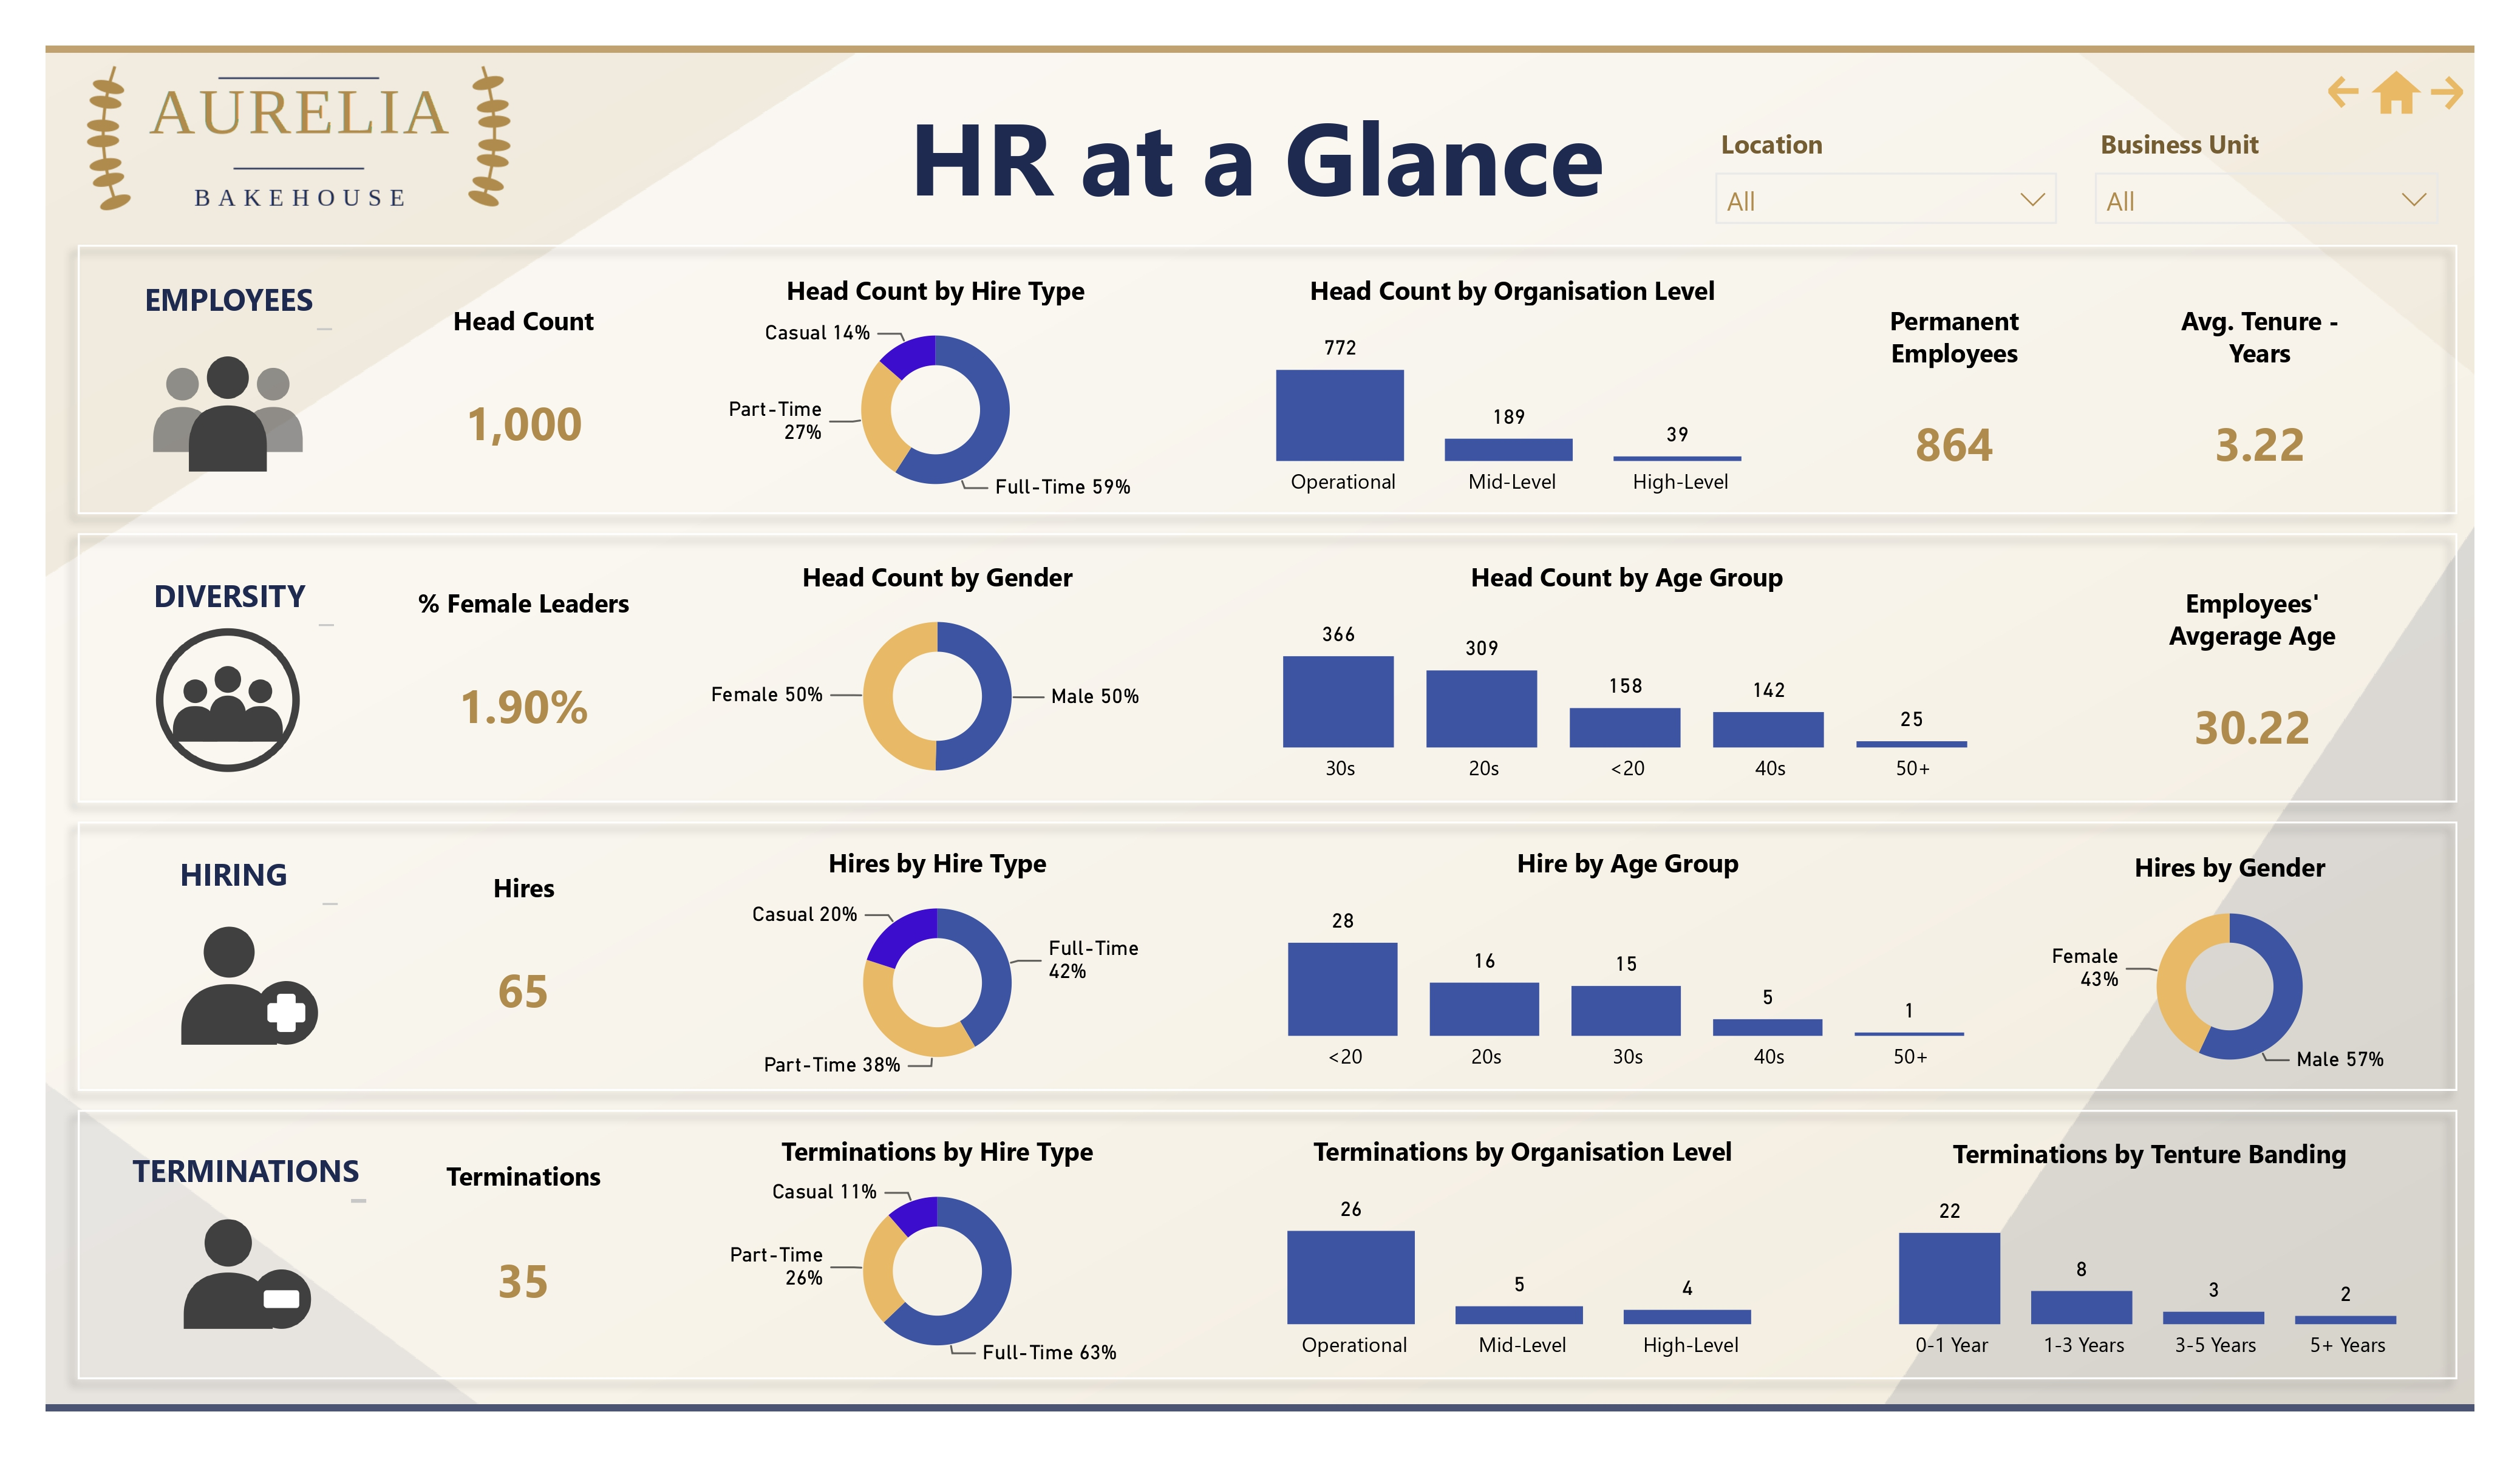

The dashboard page shown, as its layout file describes it:
{"tool":"powerbi","page":{"name":"Glance","canvas":[1280,720],"ordinal":1},"visuals":[{"type":"shape","box":[7.7,248,1272.3,160.1],"z":0},{"type":"shape","box":[8,96,1272,160],"z":1000},{"type":"shape","box":[8,400,1272,160],"z":2000},{"type":"shape","box":[8,552,1272,160],"z":3000},{"type":"slicer","fields":{"Values":["BusinessUnits.BusinessUnit"]},"box":[1070.2,38.1,200.6,63.7],"z":4000},{"type":"cardVisual","title":"Head Count","fields":{"Data":["CountNonNull(EmployeeDetails.EmployeeID)"]},"box":[184,136,136,104],"z":4000,"group":"g2"},{"type":"slicer","fields":{"Values":["BusinessUnits.Location"]},"box":[870.5,38.1,199.7,63.7],"z":5000},{"type":"donutChart","title":"Head Count by Hire Type","fields":{"Y":["CountNonNull(EmployeeDetails.EmployeeID)"],"Category":["EmployeeDetails.EmploymentType"]},"box":[333.4,120,272,127],"z":5000,"group":"g2"},{"type":"textbox","title":"HR at a Glance","box":[450.2,21.3,379.5,72.7],"z":6000},{"type":"clusteredColumnChart","title":"Head Count by Organisation Level","fields":{"Category":["EmploymentDetails.OrgLevel"],"Y":["CountNonNull(EmployeeDetails.EmployeeID)"]},"box":[608.4,120,330,128],"z":6000,"group":"g2"},{"type":"group","id":"g1","title":"Group 1","box":[33.6,271.1,1190.8,128.4],"z":7000},{"type":"donutChart","title":"Head Count by Gender","fields":{"Y":["CountNonNull(EmployeeDetails.EmployeeID)"],"Category":["EmployeeDetails.Gender"]},"box":[333.4,271.3,272,127],"z":7000,"group":"g1"},{"type":"group","id":"g2","title":"Group 2","box":[32,120,1192.1,128],"z":8000},{"type":"clusteredColumnChart","title":"Head Count by Age Group","fields":{"Category":["EmployeeDetails.AgeGroup"],"Y":["CountNonNull(EmployeeDetails.EmployeeID)"]},"box":[617,271.1,433.1,128.4],"z":8000,"group":"g1"},{"type":"cardVisual","title":"Employees'' Avgerage Age","fields":{"Data":["Avg(EmployeeDetails.Age)"]},"box":[1100.8,285.5,123.6,104],"z":9000,"group":"g1"},{"type":"group","id":"g3","title":"Group 3","box":[38.6,422.4,1215.5,129.5],"z":9000},{"type":"cardVisual","title":"Permanent Employees","fields":{"Data":["CountNonNull(EmployeeDetails.EmployeeID)"]},"box":[943.7,136,124,104],"z":10000,"group":"g2"},{"type":"group","id":"g4","title":"Group 4","box":[36.7,573.9,1237.1,129.3],"z":10000},{"type":"image","box":[0,2.9,263.3,93.6],"z":11000},{"type":"cardVisual","title":"% Female Leaders","fields":{"Data":[" Measures.FemaleLeadersPercentage"]},"box":[184,285.6,136,104],"z":11000,"group":"g1"},{"type":"cardVisual","title":"Hires","fields":{"Data":["CountNonNull(EmployeeDetails.EmployeeID)"]},"box":[184,435.2,136,104],"z":12000,"group":"g3"},{"type":"actionButton","box":[1198.8,8.9,24.8,30.1],"z":13000},{"type":"donutChart","title":"Hires by Hire Type","fields":{"Y":["CountNonNull(EmployeeDetails.EmployeeID)"],"Category":["EmployeeDetails.EmploymentType"]},"box":[333.4,422.6,272,127],"z":13000,"group":"g3"},{"type":"actionButton","box":[1252,9.8,25.7,30.1],"z":14000},{"type":"donutChart","title":"Hires by Gender","fields":{"Y":["CountNonNull(EmployeeDetails.EmployeeID)"],"Category":["EmployeeDetails.Gender"]},"box":[1046.2,424.4,207.9,127.4],"z":14000,"group":"g3"},{"type":"image","box":[1210.3,0,56.7,49.7],"z":15000},{"type":"clusteredColumnChart","title":"Hire by Age Group","fields":{"Category":["EmployeeDetails.AgeGroup"],"Y":["CountNonNull(EmployeeDetails.EmployeeID)"]},"box":[619.2,422.4,428.2,128.6],"z":15000,"group":"g3"},{"type":"cardVisual","title":"Terminations","fields":{"Data":["CountNonNull(EmployeeDetails.EmployeeID)"]},"box":[184,587.3,136,104.4],"z":17000,"group":"g4"},{"type":"donutChart","title":"Terminations by Hire Type","fields":{"Y":["CountNonNull(EmployeeDetails.EmployeeID)"],"Category":["EmployeeDetails.EmploymentType"]},"box":[333.4,573.9,272.1,127.4],"z":18000,"group":"g4"},{"type":"clusteredColumnChart","title":"Terminations by Organisation Level","fields":{"Category":["EmploymentDetails.OrgLevel"],"Y":["CountNonNull(EmployeeDetails.EmployeeID)"]},"box":[613.5,574.1,329.3,128.6],"z":19000,"group":"g4"},{"type":"clusteredColumnChart","title":"Terminations by Tenture Banding","fields":{"Y":["CountNonNull(EmployeeDetails.EmployeeID)"],"Category":["EmployeeDetails.TentureYearsGroup"]},"box":[943.8,574.9,330,128.4],"z":20000,"group":"g4"},{"type":"image","box":[32,144,128,96],"z":25000,"group":"g2"},{"type":"image","box":[33.6,301.4,122.9,87.4],"z":26000,"group":"g1"},{"type":"image","box":[47.3,446.6,112.9,93.6],"z":27000,"group":"g3"},{"type":"image","box":[50.9,601,105.6,88.3],"z":28000,"group":"g4"},{"type":"cardVisual","title":"Avg. Tenure - Years","fields":{"Data":["Avg(EmployeeDetails.YearsOfService)"]},"box":[1110.2,136,113.8,104.2],"z":30000,"group":"g2"},{"type":"textbox","title":"TERMINATIONS","box":[36.7,581.7,137,32.8],"z":31500,"group":"g4"},{"type":"textbox","title":"HIRING","box":[38.6,426.3,119.6,31.8],"z":32000,"group":"g3"},{"type":"textbox","title":"DIVERSITY","box":[36.5,279.3,120,31.7],"z":32500,"group":"g1"},{"type":"textbox","title":"EMPLOYEES","box":[36.7,122.5,119.6,32.8],"z":33000,"group":"g2"}]}

Visuals, with their boxes on the page's 1280x720 design canvas (x1, y1, x2, y2). These are canvas units, not pixel positions in the 2520x1457 screenshot, which may show the page scaled, cropped or inside an application window:
shape: box=[8, 248, 1280, 408]
shape: box=[8, 96, 1280, 256]
shape: box=[8, 400, 1280, 560]
shape: box=[8, 552, 1280, 712]
slicer - BusinessUnits.BusinessUnit: box=[1070, 38, 1271, 102]
"Head Count" cardVisual: box=[184, 136, 320, 240]
slicer - BusinessUnits.Location: box=[870, 38, 1070, 102]
"Head Count by Hire Type" donutChart: box=[333, 120, 605, 247]
"HR at a Glance" textbox: box=[450, 21, 830, 94]
"Head Count by Organisation Level" clusteredColumnChart: box=[608, 120, 938, 248]
"Group 1" group: box=[34, 271, 1224, 400]
"Head Count by Gender" donutChart: box=[333, 271, 605, 398]
"Group 2" group: box=[32, 120, 1224, 248]
"Head Count by Age Group" clusteredColumnChart: box=[617, 271, 1050, 400]
"Employees'' Avgerage Age" cardVisual: box=[1101, 286, 1224, 390]
"Group 3" group: box=[39, 422, 1254, 552]
"Permanent Employees" cardVisual: box=[944, 136, 1068, 240]
"Group 4" group: box=[37, 574, 1274, 703]
image: box=[0, 3, 263, 96]
"% Female Leaders" cardVisual: box=[184, 286, 320, 390]
"Hires" cardVisual: box=[184, 435, 320, 539]
actionButton: box=[1199, 9, 1224, 39]
"Hires by Hire Type" donutChart: box=[333, 423, 605, 550]
actionButton: box=[1252, 10, 1278, 40]
"Hires by Gender" donutChart: box=[1046, 424, 1254, 552]
image: box=[1210, 0, 1267, 50]
"Hire by Age Group" clusteredColumnChart: box=[619, 422, 1047, 551]
"Terminations" cardVisual: box=[184, 587, 320, 692]
"Terminations by Hire Type" donutChart: box=[333, 574, 606, 701]
"Terminations by Organisation Level" clusteredColumnChart: box=[614, 574, 943, 703]
"Terminations by Tenture Banding" clusteredColumnChart: box=[944, 575, 1274, 703]
image: box=[32, 144, 160, 240]
image: box=[34, 301, 156, 389]
image: box=[47, 447, 160, 540]
image: box=[51, 601, 156, 689]
"Avg. Tenure - Years" cardVisual: box=[1110, 136, 1224, 240]
"TERMINATIONS" textbox: box=[37, 582, 174, 614]
"HIRING" textbox: box=[39, 426, 158, 458]
"DIVERSITY" textbox: box=[36, 279, 156, 311]
"EMPLOYEES" textbox: box=[37, 122, 156, 155]
